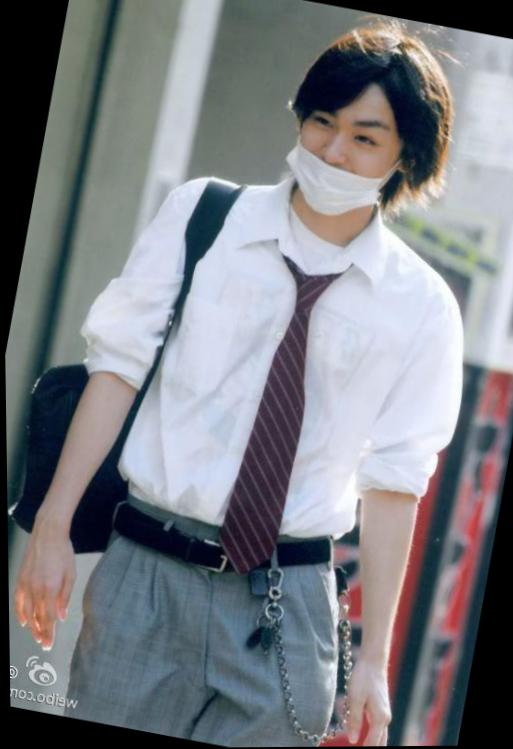WRONG: (281, 91, 405, 226)
